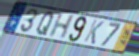3: (18, 9, 39, 34)
7: (99, 21, 123, 48)
9: (67, 16, 88, 43)
H: (47, 13, 76, 41)
K: (83, 19, 106, 46)
Q: (35, 11, 55, 37)
